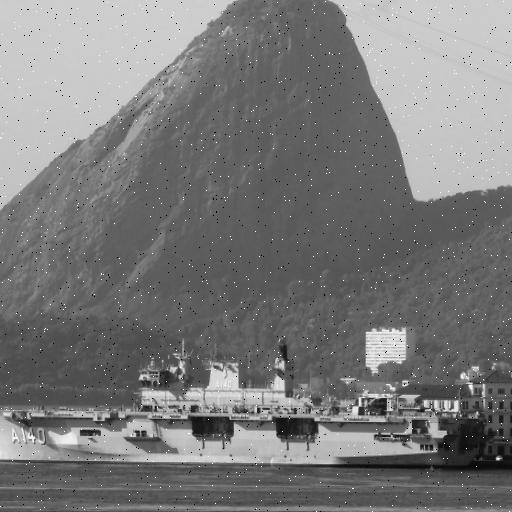Portanaves: (1, 334, 489, 477)
